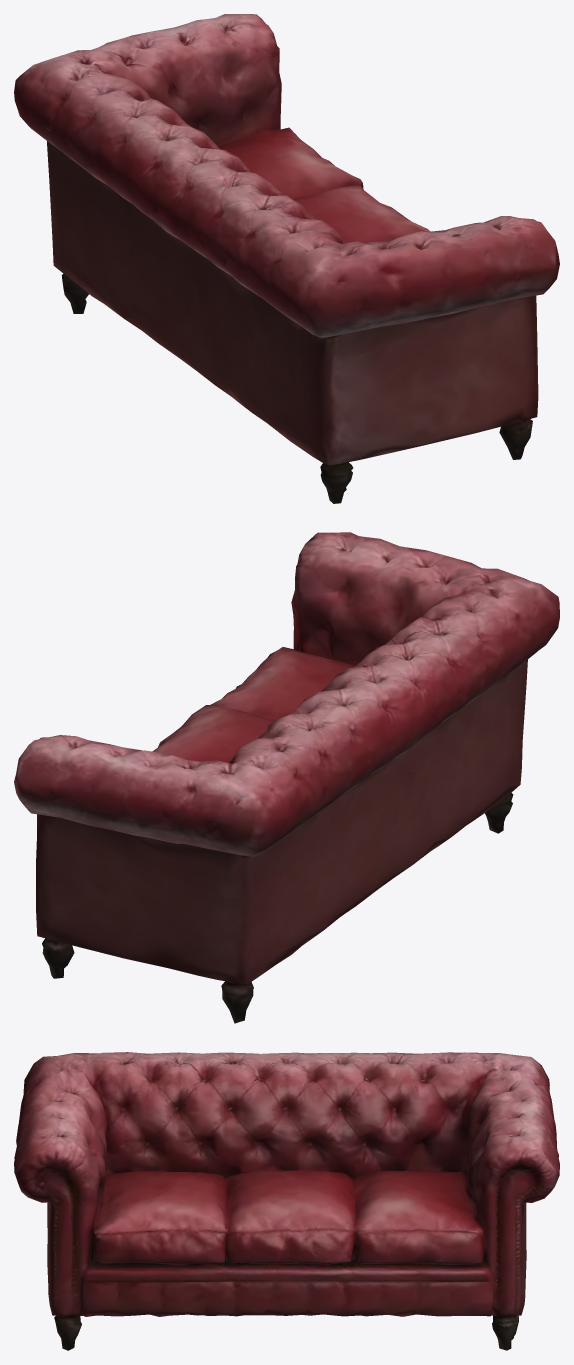
The model's file is chesterfield.glb.
The picture shows the model from 3 angles, top to bottom: view 1: azimuth 30°, elevation 25°; view 2: azimuth 150°, elevation 25°; view 3: azimuth 270°, elevation 25°; orthographic projection. The views are drawn at different scales.
Visible parts, largest first — view 1: tripo_node_a5d267b4-2083-4d65-bfce-2955dad0d794; view 2: tripo_node_a5d267b4-2083-4d65-bfce-2955dad0d794; view 3: tripo_node_a5d267b4-2083-4d65-bfce-2955dad0d794.
Boxes of the visible parts, x1=… form: tripo_node_a5d267b4-2083-4d65-bfce-2955dad0d794: x1=14, y1=14, x2=559, y2=503; tripo_node_a5d267b4-2083-4d65-bfce-2955dad0d794: x1=14, y1=532, x2=559, y2=1023; tripo_node_a5d267b4-2083-4d65-bfce-2955dad0d794: x1=14, y1=1052, x2=559, y2=1350.
Size of the model in its own units: 0.4546 by 0.4345 by 1.
1 material, 1 textured.
